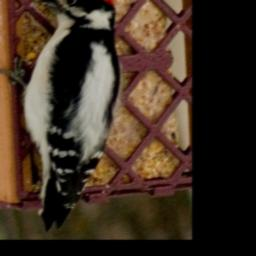Woodpecker: (0, 0, 119, 231)
